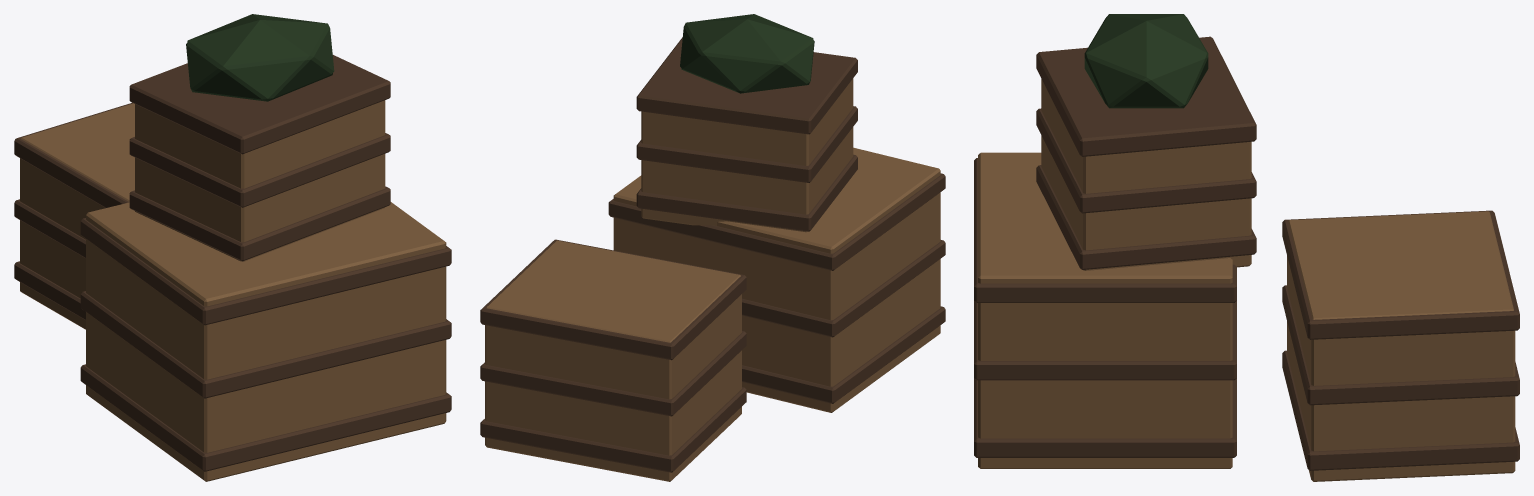
Rendered from V_Caisses.glb.
3 views of the same model, side by side, from view 1: azimuth 30°, elevation 25°; view 2: azimuth 150°, elevation 25°; view 3: azimuth 270°, elevation 25° (orthographic). The views are drawn at different scales.
Parts seen in each view (by area): view 1: V_Caisses; view 2: V_Caisses; view 3: V_Caisses.
Part boxes in pixels (x1,y1,x2,y2): V_Caisses: (14, 14, 451, 481); V_Caisses: (480, 14, 945, 481); V_Caisses: (974, 14, 1519, 481).
Size of the model in its own units: 0.8149 by 1.06 by 1.33.
